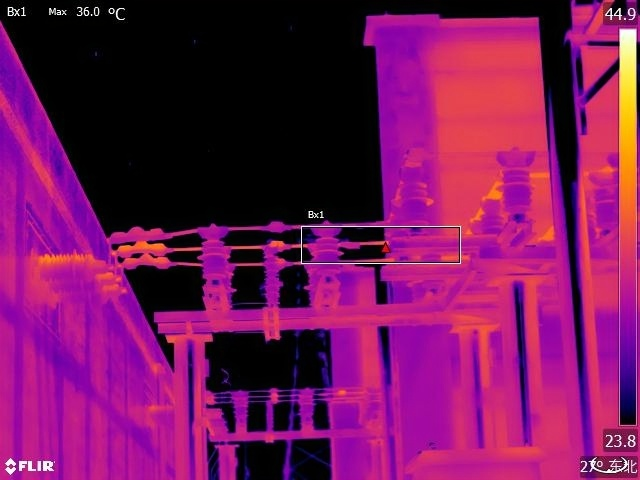post insulator: (498, 145, 536, 223), (398, 162, 433, 231), (197, 223, 233, 286), (311, 220, 347, 275), (474, 202, 506, 260), (588, 172, 616, 231), (259, 245, 286, 305), (294, 389, 316, 431), (232, 390, 249, 435), (260, 395, 277, 432)
tube: (36, 249, 97, 282), (48, 272, 109, 295), (56, 285, 121, 304)
